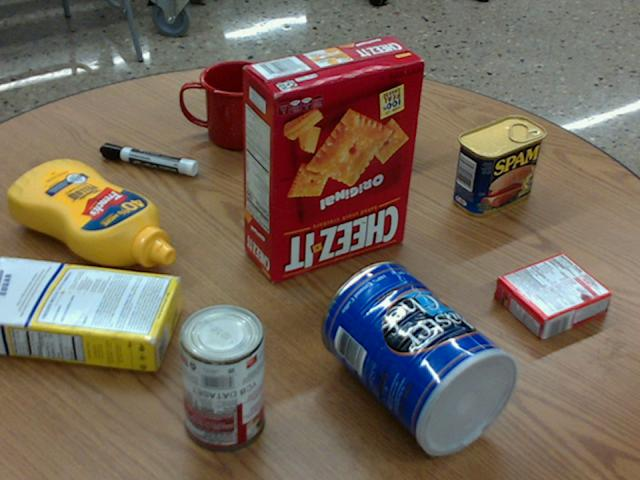cracker_box: (240, 33, 424, 282)
gelatin_box: (493, 251, 611, 338)
large_marker: (100, 143, 197, 175)
master_chef_can: (321, 260, 521, 456)
mug: (179, 60, 275, 150)
mustard_bottle: (8, 158, 175, 266)
potted_meat_can: (454, 115, 545, 216)
sugar_box: (0, 253, 181, 372)
tomato_soup_can: (180, 302, 267, 450)
tuna_fish_can: (343, 85, 416, 159)
